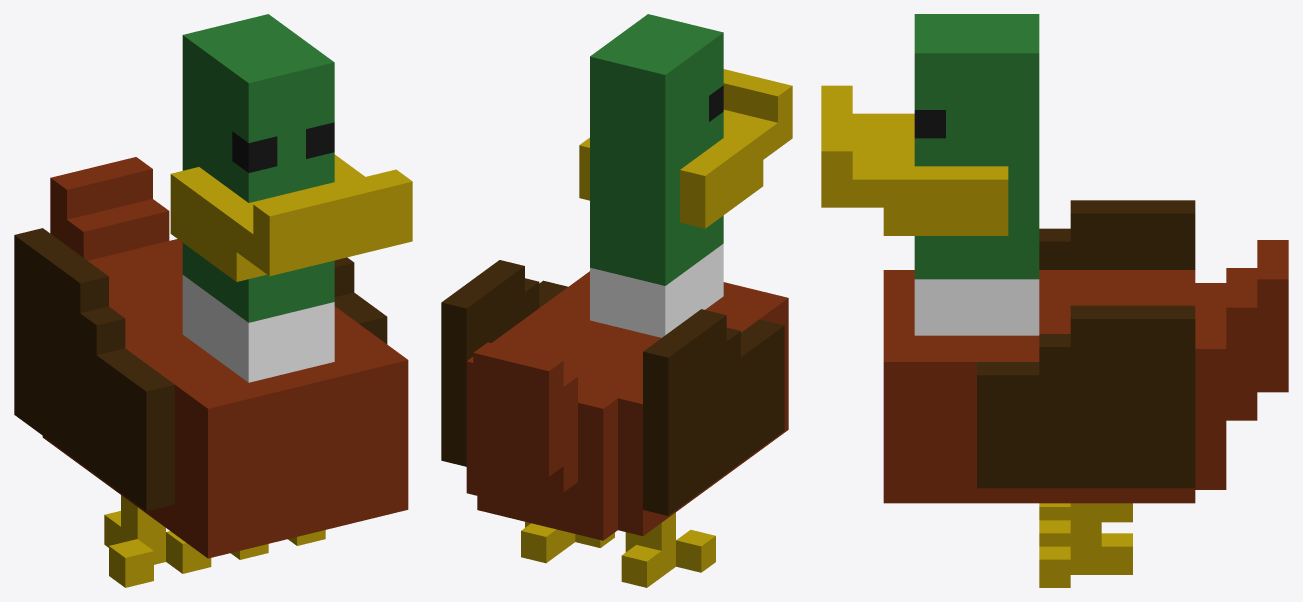
File: duck-01.obj
3 renders of one model, left to right at view 1: azimuth 30°, elevation 25°; view 2: azimuth 150°, elevation 25°; view 3: azimuth 270°, elevation 25°, orthographic. The views are drawn at different scales.
Bounding box in the file's own units: 9 × 18 × 15.
